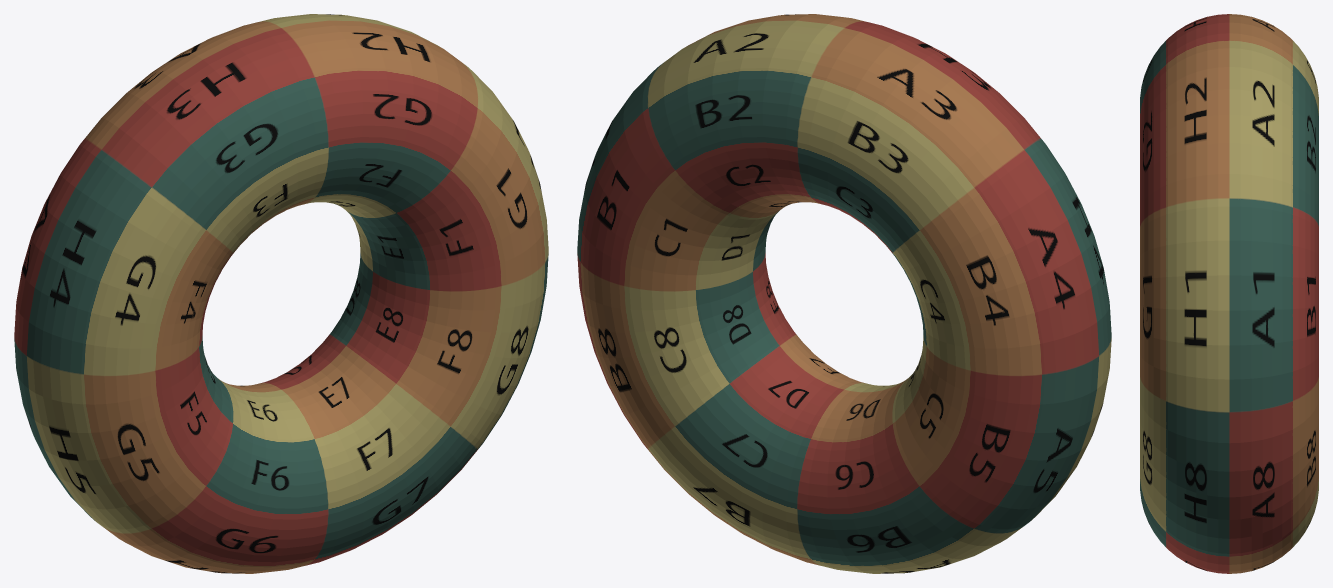
File: texture_torus_R16_r29.glb
3 renders of one model, left to right at view 1: azimuth 30°, elevation 25°; view 2: azimuth 150°, elevation 25°; view 3: azimuth 270°, elevation 25°, orthographic. The views are drawn at different scales.
Visible parts, largest first — view 1: world; view 2: world; view 3: world.
Part boxes in pixels (<box>): world: <box>14,14,548,573</box>; world: <box>577,14,1111,573</box>; world: <box>1140,14,1318,573</box>.
Bounding box in the file's own units: 30.4 × 30.34 × 9.71.
1 material, 1 textured.
